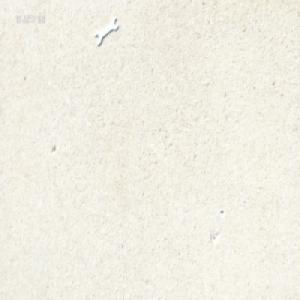Wrench: (94, 21, 117, 49)
